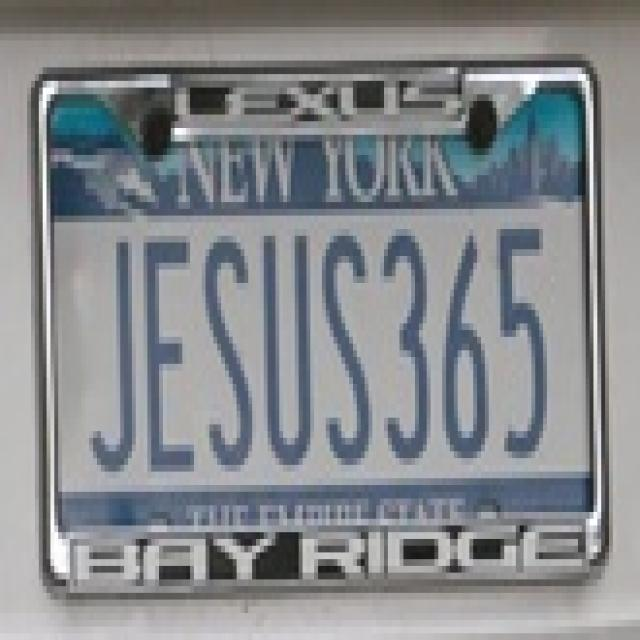licenseplate: (23, 32, 626, 628)
